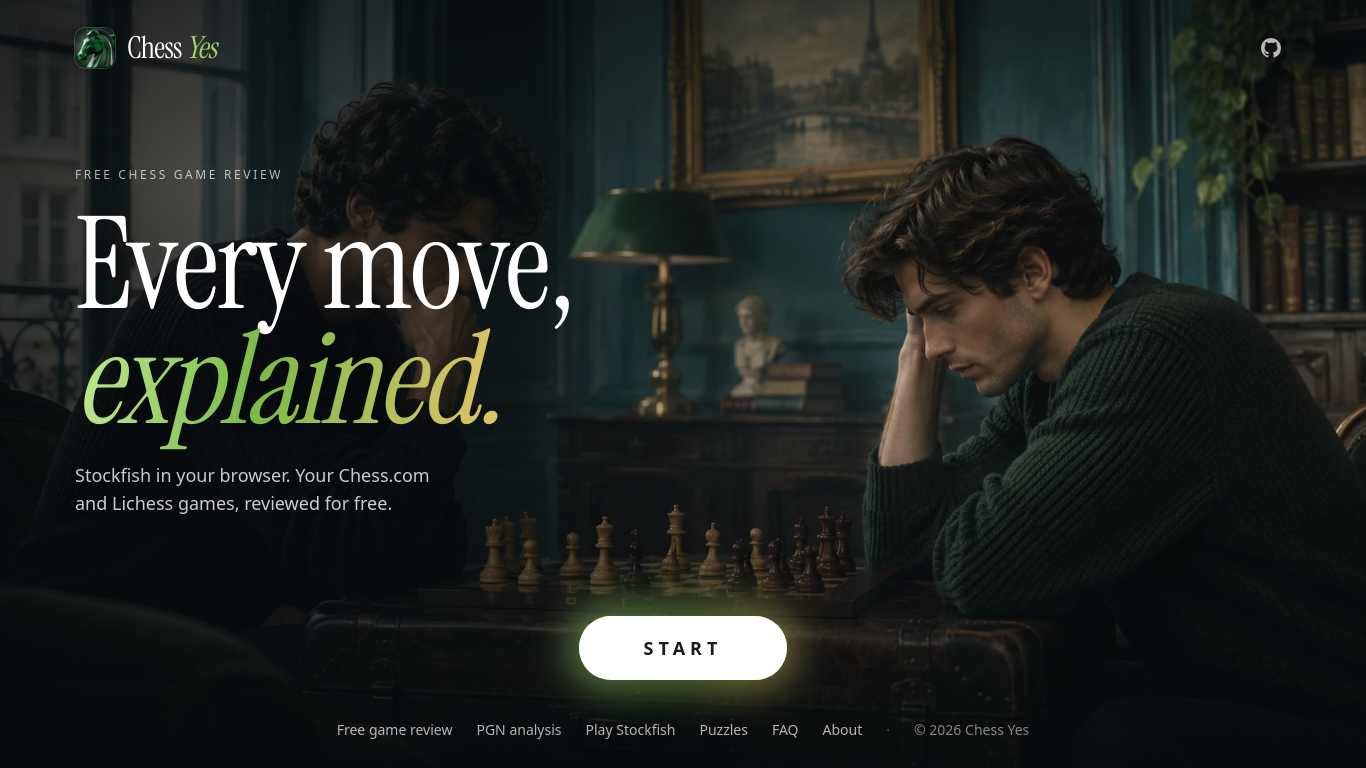
Test case: landing page › starts the app with Start
Step 1. Click the link "Start" → (683, 648), box [579,616,787,680]
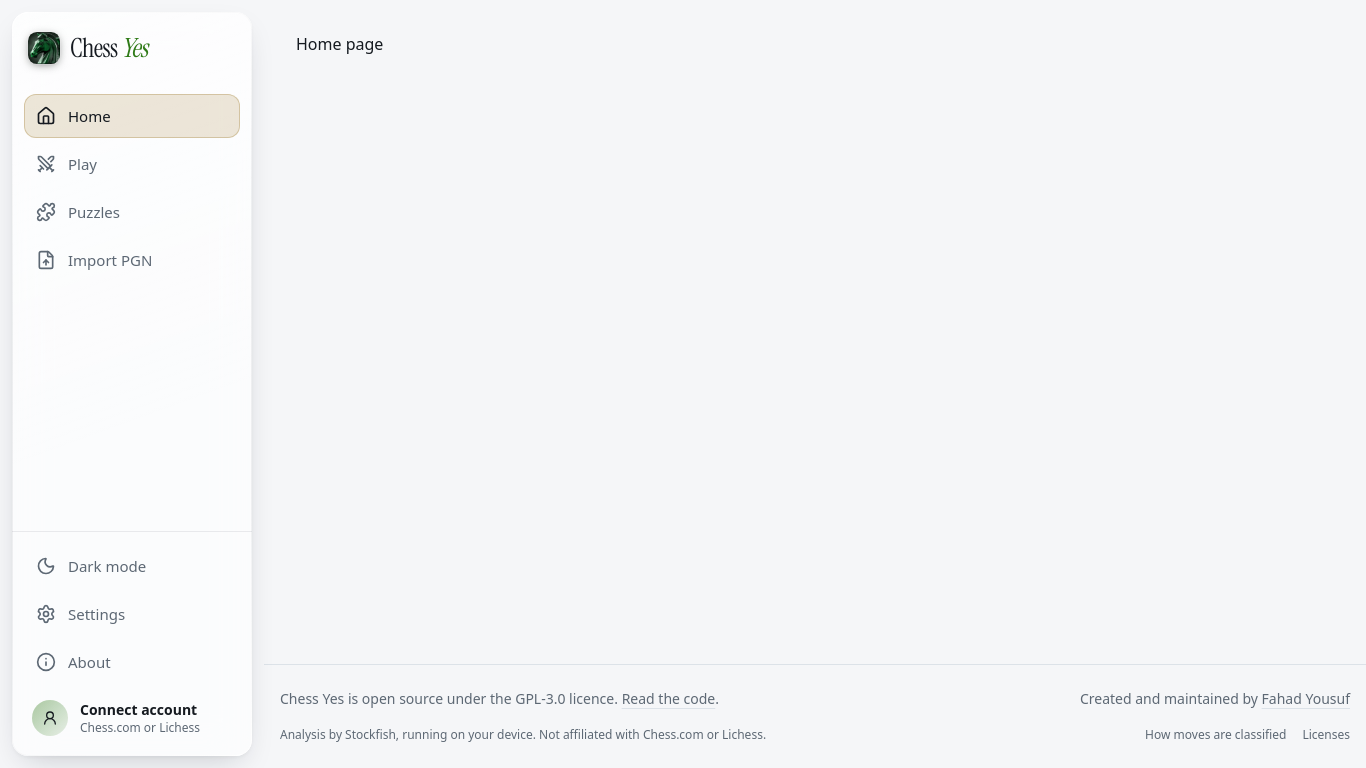
Result: the text "Home page" is shown at [296,33,383,55]
